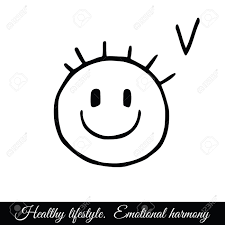feliz: (39, 31, 180, 171), (73, 86, 151, 141)
